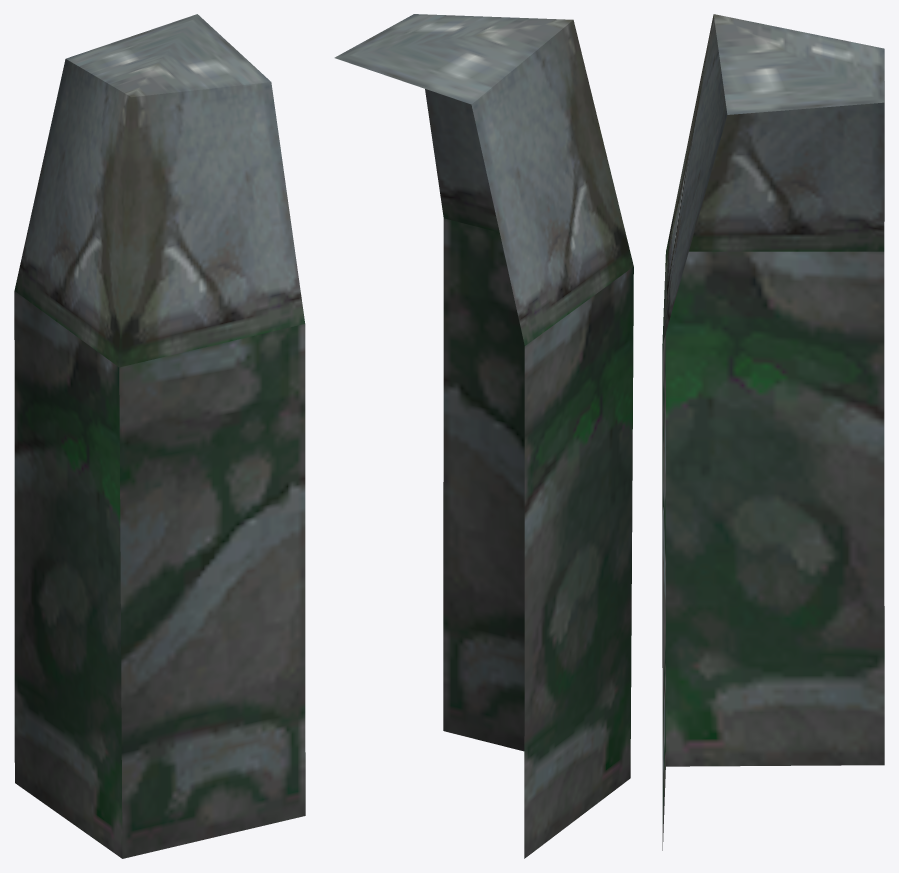
The model's file is stemple_quarter_convex_01.fbx.
3 renders of one model, left to right at view 1: azimuth 30°, elevation 25°; view 2: azimuth 150°, elevation 25°; view 3: azimuth 270°, elevation 25°, orthographic. The views are drawn at different scales.
Visible parts, largest first — view 1: sunken_tileset/sunken_quarter01_mat; view 2: sunken_tileset/sunken_quarter01_mat; view 3: sunken_tileset/sunken_quarter01_mat.
Part boxes in pixels (<box>): sunken_tileset/sunken_quarter01_mat: <box>14,14,305,858</box>; sunken_tileset/sunken_quarter01_mat: <box>334,14,633,858</box>; sunken_tileset/sunken_quarter01_mat: <box>662,14,884,850</box>.
Bounding box in the file's own units: 0.42 × 1.6 × 0.4195.
